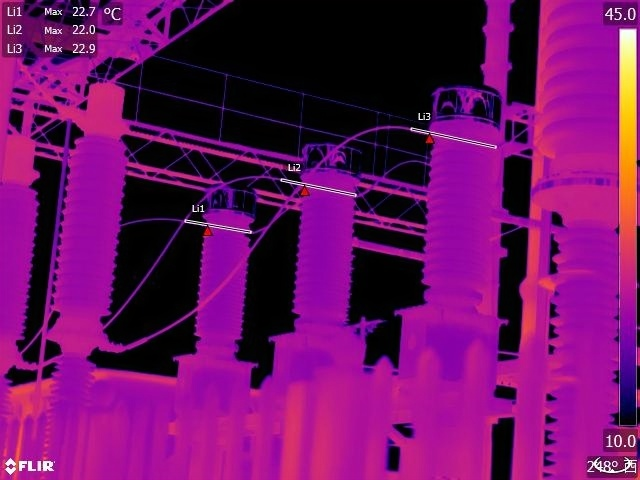circuit breaker: (512, 1, 640, 480), (26, 70, 133, 480), (1, 126, 41, 480)
current transformer: (389, 69, 509, 400), (267, 128, 366, 401), (168, 169, 259, 423)
